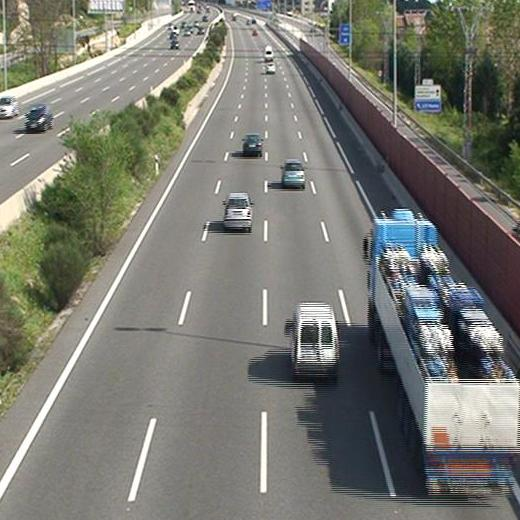car: (223, 191, 252, 230), (279, 160, 306, 188), (242, 134, 263, 156), (265, 63, 275, 75)
truck: (365, 212, 520, 491)
van: (287, 305, 340, 379), (263, 46, 273, 61)
